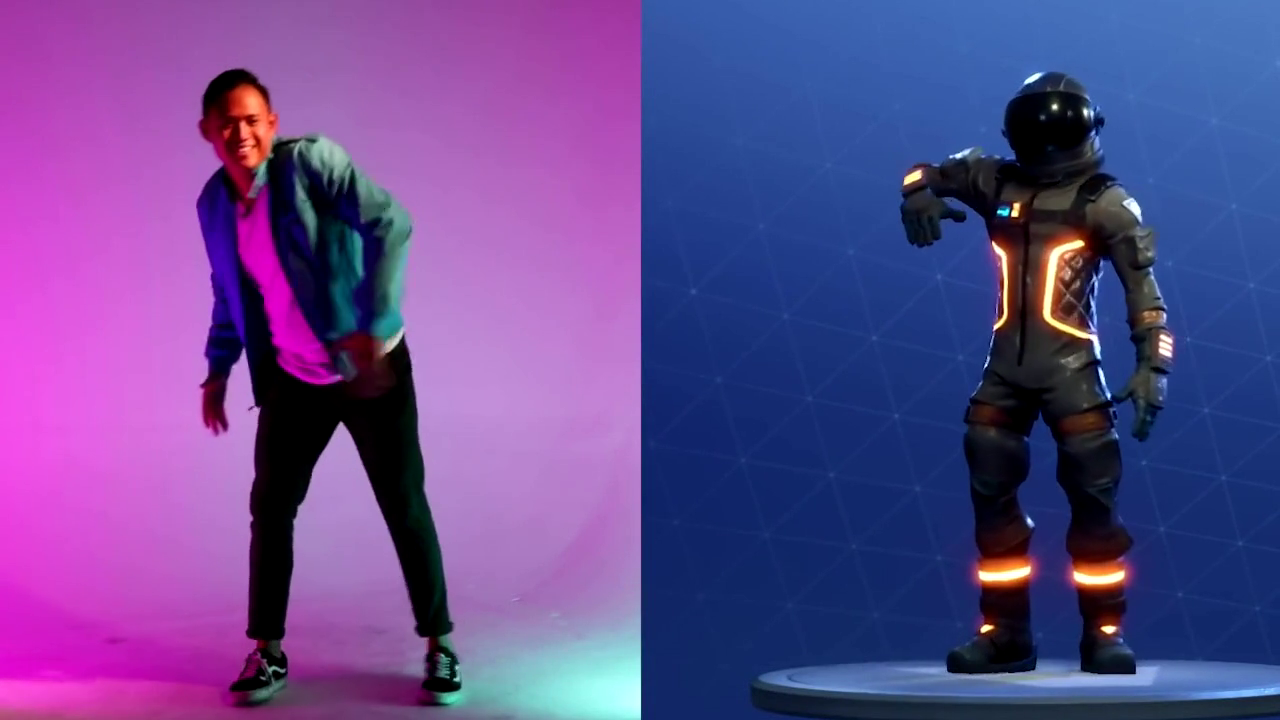Head: (182, 65, 299, 175)
Hip: (231, 344, 429, 435)
LeftAnkle: (390, 611, 510, 716)
LeftElbow: (344, 178, 436, 269)
LeftKnee: (334, 455, 472, 547)
LeftShoulder: (281, 116, 370, 198)
LeftWrist: (303, 298, 433, 405)
RightAnkle: (208, 621, 331, 716)
RightKnee: (216, 484, 315, 553)
RightShoulder: (160, 173, 266, 253)
RightWrist: (180, 367, 282, 461)
Torso: (221, 175, 373, 377)
